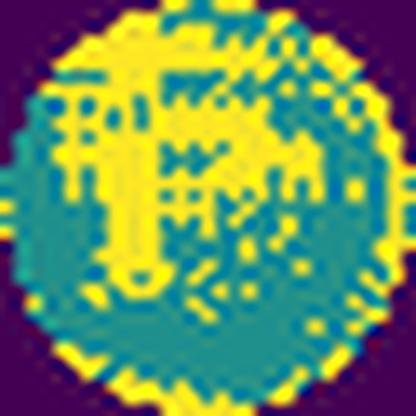Random: (35, 0, 415, 416)
